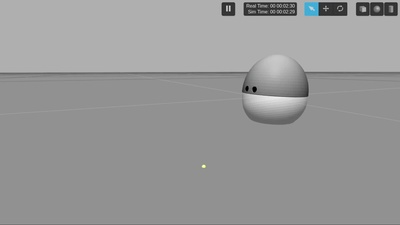mira_robot: (242, 55, 309, 124)
